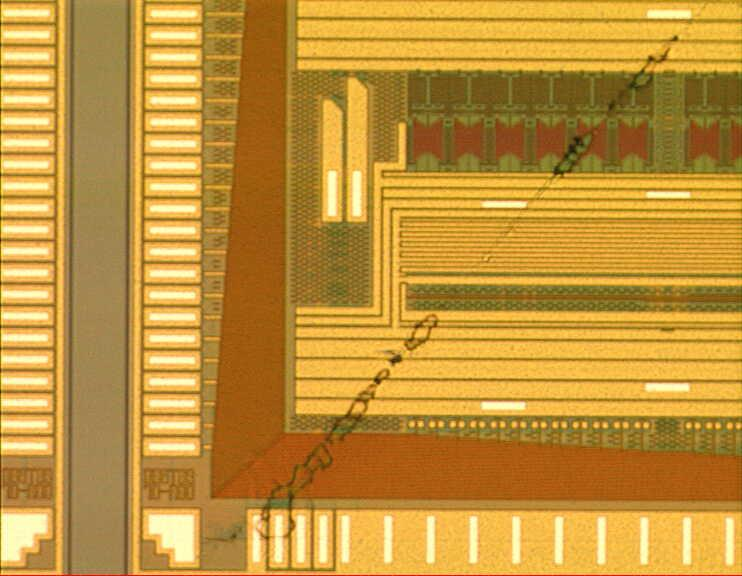SCRATCH: (189, 1, 715, 560)
